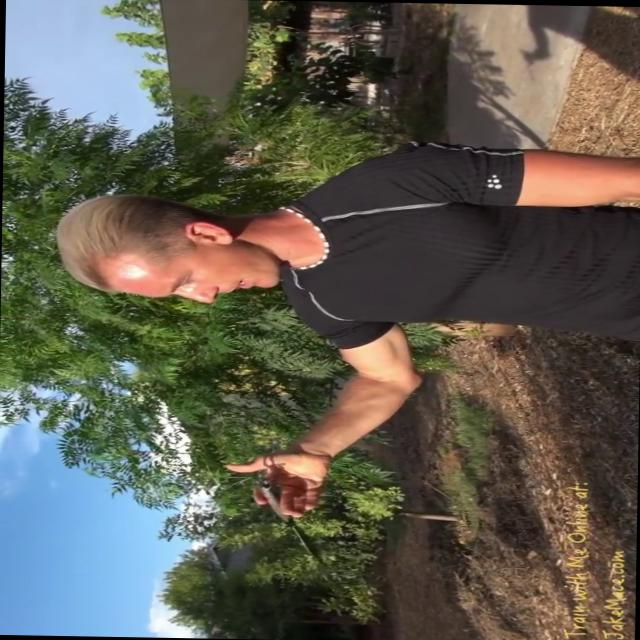knife: (260, 465, 350, 571)
